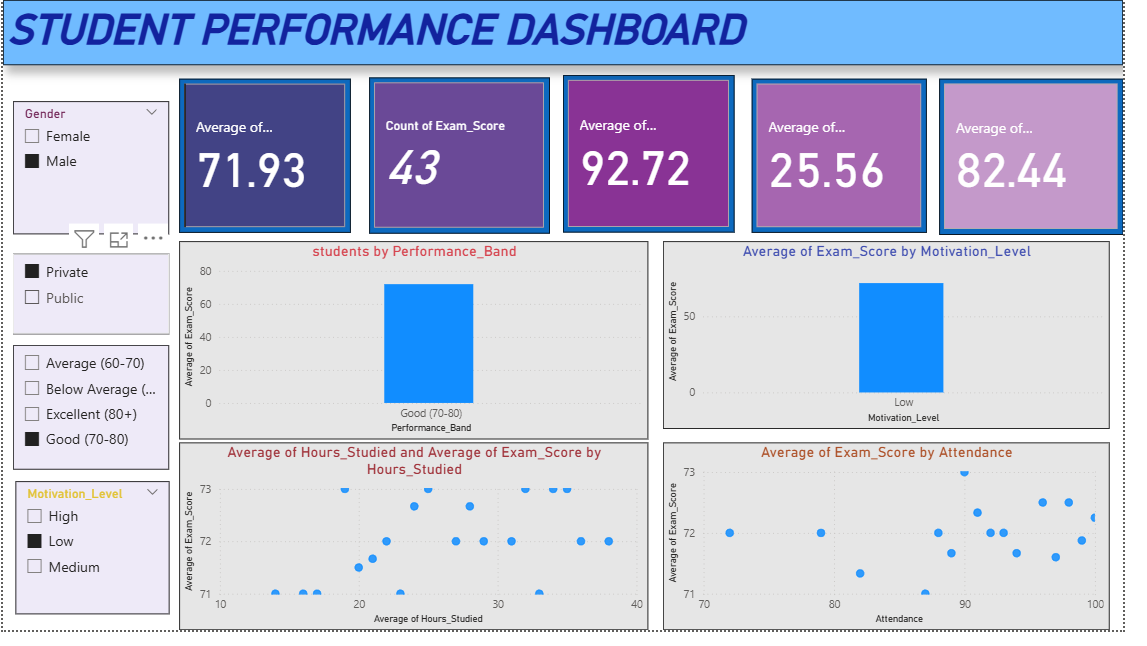

This screenshot's page, from the dashboard's own definition file:
{"tool":"powerbi","page":{"name":"Page 1","canvas":[1280,720],"ordinal":0},"visuals":[{"type":"cardVisual","fields":{"Data":["Avg(Student_Performance_CLEAN (1).Exam_Score)"]},"box":[202,90,196,176],"z":0},{"type":"cardVisual","fields":{"Data":["CountNonNull(Student_Performance_CLEAN (1).Exam_Score)"]},"box":[418,88,206,178],"z":1000},{"type":"cardVisual","fields":{"Data":["Avg(Student_Performance_CLEAN (1).Attendance)"]},"box":[640,86,196,180],"z":2000},{"type":"cardVisual","fields":{"Data":["Avg(Student_Performance_CLEAN (1).Hours_Studied)"]},"box":[856,90,200,176],"z":3000},{"type":"cardVisual","fields":{"Data":["Avg(Student_Performance_CLEAN (1).Previous_Scores)"]},"box":[1070,90,210,178],"z":4000},{"type":"clusteredColumnChart","title":"students by Performance_Band","fields":{"Category":["Student_Performance_CLEAN (1).Performance_Band"],"Y":["Avg(Student_Performance_CLEAN (1).Exam_Score)"]},"box":[202,276,536,226],"z":5000},{"type":"scatterChart","fields":{"X":["Avg(Student_Performance_CLEAN (1).Hours_Studied)"],"Y":["Avg(Student_Performance_CLEAN (1).Exam_Score)"],"Category":["Student_Performance_CLEAN (1).Hours_Studied","Student_Performance_CLEAN (1).Exam_Score"]},"box":[202,506,536,214],"z":6000},{"type":"scatterChart","fields":{"Y":["Avg(Student_Performance_CLEAN (1).Exam_Score)"],"X":["Student_Performance_CLEAN (1).Attendance"]},"box":[754,506,510,214],"z":7000},{"type":"clusteredColumnChart","fields":{"Category":["Student_Performance_CLEAN (1).Motivation_Level"],"Y":["Avg(Student_Performance_CLEAN (1).Exam_Score)"]},"box":[754,276,510,214],"z":8000},{"type":"slicer","fields":{"Values":["Student_Performance_CLEAN (1).Gender"]},"box":[12,116,178,152],"z":9000},{"type":"slicer","fields":{"Values":["Student_Performance_CLEAN (1).School_Type"]},"box":[12,290,178,92],"z":10000},{"type":"slicer","fields":{"Values":["Student_Performance_CLEAN (1).Motivation_Level"]},"box":[14,550,176,152],"z":11000},{"type":"slicer","fields":{"Values":["Student_Performance_CLEAN (1).Performance_Band"]},"box":[12,394,178,142],"z":12000},{"type":"textbox","box":[0,0,1280,74],"z":13000}]}

Visuals, with their boxes in screenshot pixels (x1, y1, x2, y2), scaled from the page's 1280x720 canvas onto the 1147x646 screenshot:
cardVisual - Avg(Student_Performance_CLEAN (1).Exam_Score): {"left": 181, "top": 81, "right": 357, "bottom": 239}
cardVisual - CountNonNull(Student_Performance_CLEAN (1).Exam_Score): {"left": 375, "top": 79, "right": 559, "bottom": 239}
cardVisual - Avg(Student_Performance_CLEAN (1).Attendance): {"left": 574, "top": 77, "right": 749, "bottom": 239}
cardVisual - Avg(Student_Performance_CLEAN (1).Hours_Studied): {"left": 767, "top": 81, "right": 946, "bottom": 239}
cardVisual - Avg(Student_Performance_CLEAN (1).Previous_Scores): {"left": 959, "top": 81, "right": 1146, "bottom": 240}
"students by Performance_Band" clusteredColumnChart: {"left": 181, "top": 248, "right": 661, "bottom": 450}
scatterChart - Avg(Student_Performance_CLEAN (1).Hours_Studied) x Avg(Student_Performance_CLEAN (1).Exam_Score): {"left": 181, "top": 454, "right": 661, "bottom": 645}
scatterChart - Avg(Student_Performance_CLEAN (1).Exam_Score) x Student_Performance_CLEAN (1).Attendance: {"left": 676, "top": 454, "right": 1133, "bottom": 645}
clusteredColumnChart - Student_Performance_CLEAN (1).Motivation_Level x Avg(Student_Performance_CLEAN (1).Exam_Score): {"left": 676, "top": 248, "right": 1133, "bottom": 440}
slicer - Student_Performance_CLEAN (1).Gender: {"left": 11, "top": 104, "right": 170, "bottom": 240}
slicer - Student_Performance_CLEAN (1).School_Type: {"left": 11, "top": 260, "right": 170, "bottom": 343}
slicer - Student_Performance_CLEAN (1).Motivation_Level: {"left": 13, "top": 493, "right": 170, "bottom": 630}
slicer - Student_Performance_CLEAN (1).Performance_Band: {"left": 11, "top": 354, "right": 170, "bottom": 481}
textbox: {"left": 0, "top": 0, "right": 1146, "bottom": 66}
